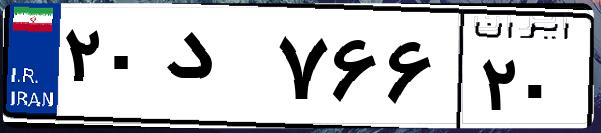0: (525, 38, 570, 115), (110, 28, 158, 98)
2: (57, 26, 110, 100), (475, 38, 525, 113)
6: (385, 28, 445, 110), (330, 28, 385, 110)
7: (270, 28, 330, 110)
د: (158, 20, 270, 120)
